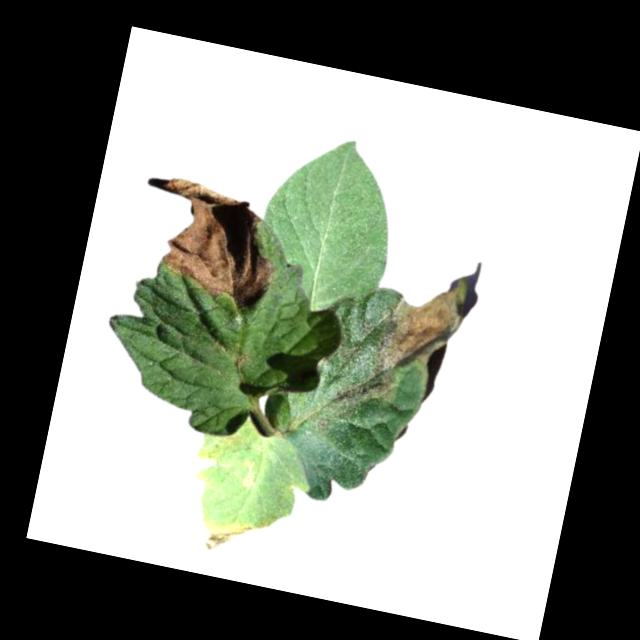Late_blight: (145, 176, 290, 318), (367, 254, 483, 409), (199, 516, 252, 557)
healthy: (247, 126, 410, 325)
